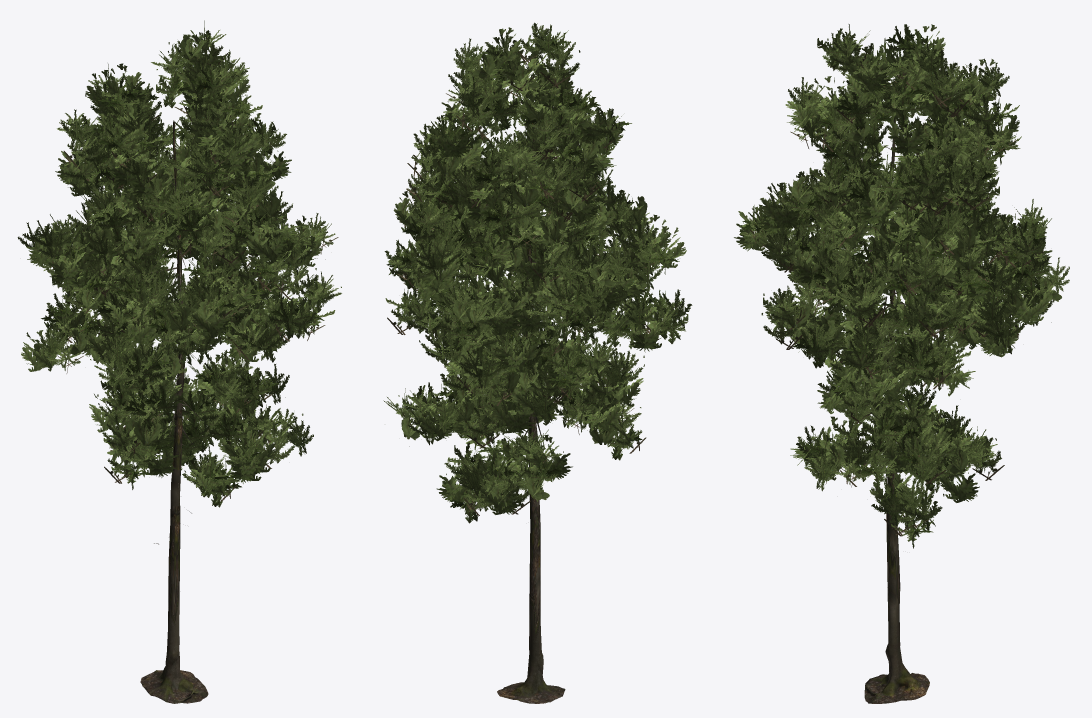
File: conifer-tree-lod1.glb
3 renders of one model, left to right at view 1: azimuth 30°, elevation 25°; view 2: azimuth 150°, elevation 25°; view 3: azimuth 270°, elevation 25°, orthographic. The views are drawn at different scales.
Parts seen in each view (by area): view 1: fir_tree_01_b_LOD0; view 2: fir_tree_01_b_LOD0; view 3: fir_tree_01_b_LOD0.
Boxes of the visible parts, box(x1,y1,x2,y2) form: fir_tree_01_b_LOD0: box(17, 20, 341, 703); fir_tree_01_b_LOD0: box(383, 22, 692, 703); fir_tree_01_b_LOD0: box(734, 24, 1069, 703).
Size of the model in its own units: 6.51 by 14.2 by 6.7.
Materials: 4 (4 with a texture image).
